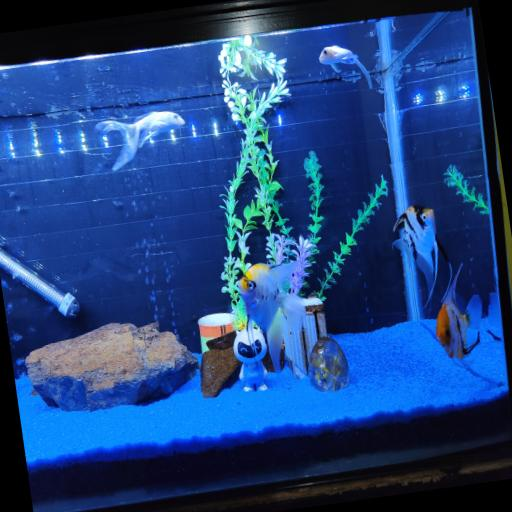Fish: (237, 263, 305, 372), (392, 206, 447, 303), (95, 112, 184, 170), (435, 265, 481, 359), (318, 46, 371, 89)
